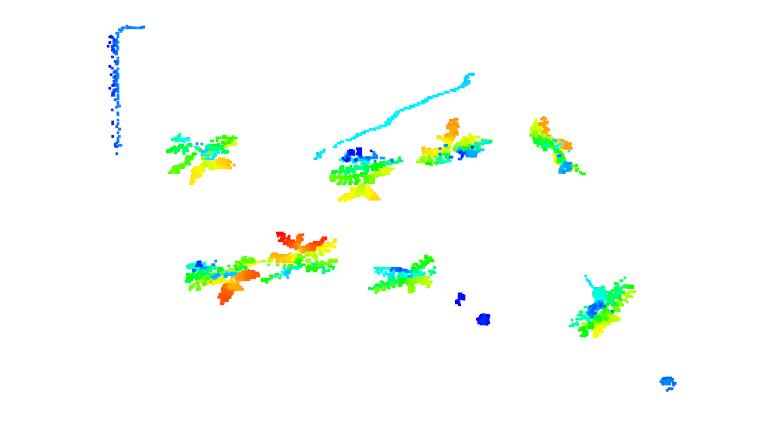chickpea: (568, 274, 639, 338), (162, 130, 239, 184), (185, 254, 263, 306), (330, 149, 403, 204), (527, 113, 588, 177), (264, 230, 337, 283), (418, 119, 492, 169), (365, 254, 440, 294)
